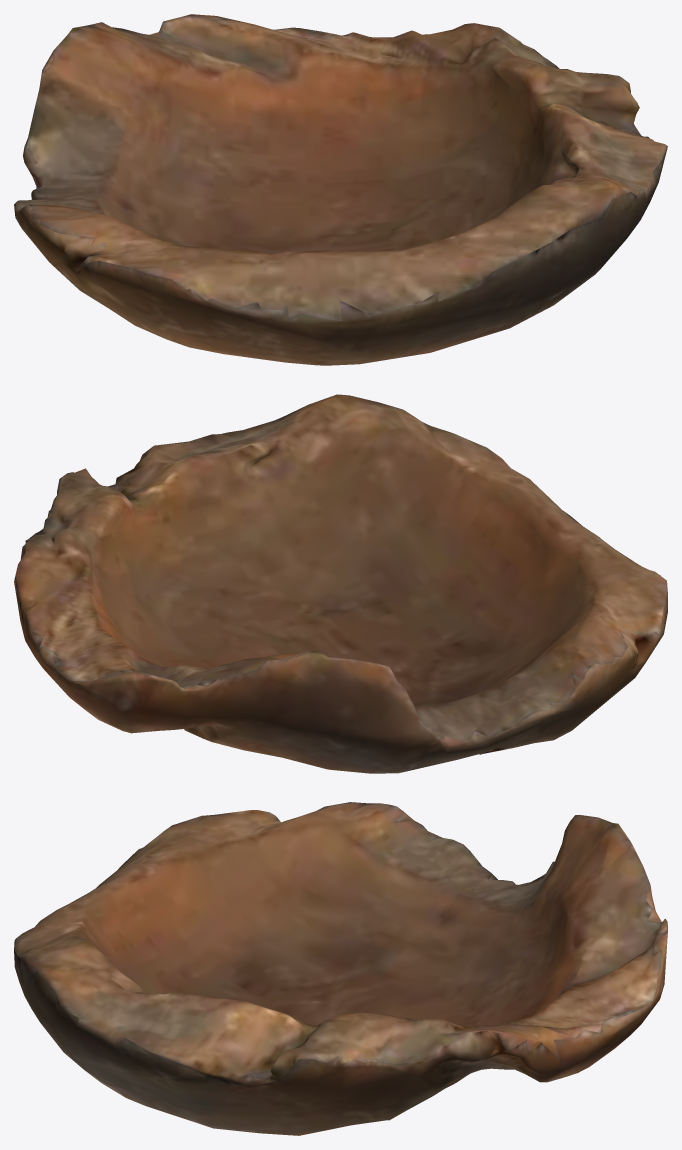
The model's file is wooden_bowl_01.glb.
The picture shows the model from 3 angles, top to bottom: view 1: azimuth 30°, elevation 25°; view 2: azimuth 150°, elevation 25°; view 3: azimuth 270°, elevation 25°; orthographic projection. The views are drawn at different scales.
Parts seen in each view (by area): view 1: wooden_bowl_01_lod0; view 2: wooden_bowl_01_lod0; view 3: wooden_bowl_01_lod0.
Boxes of the visible parts, <box> form: wooden_bowl_01_lod0: <box>14,14,667,365</box>; wooden_bowl_01_lod0: <box>14,394,667,773</box>; wooden_bowl_01_lod0: <box>14,802,667,1135</box>.
Size of what is drawn, in the model's own units: 0.3132 by 0.0938 by 0.309.
1 material, 1 textured.
